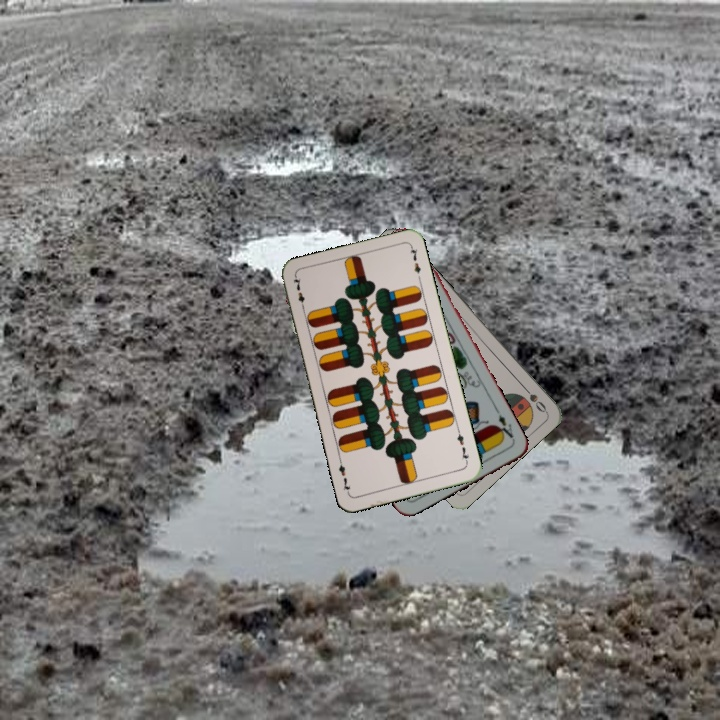E7: (453, 426, 472, 466), (289, 273, 307, 313)
EA: (492, 411, 517, 444)
SO: (518, 381, 549, 415)
